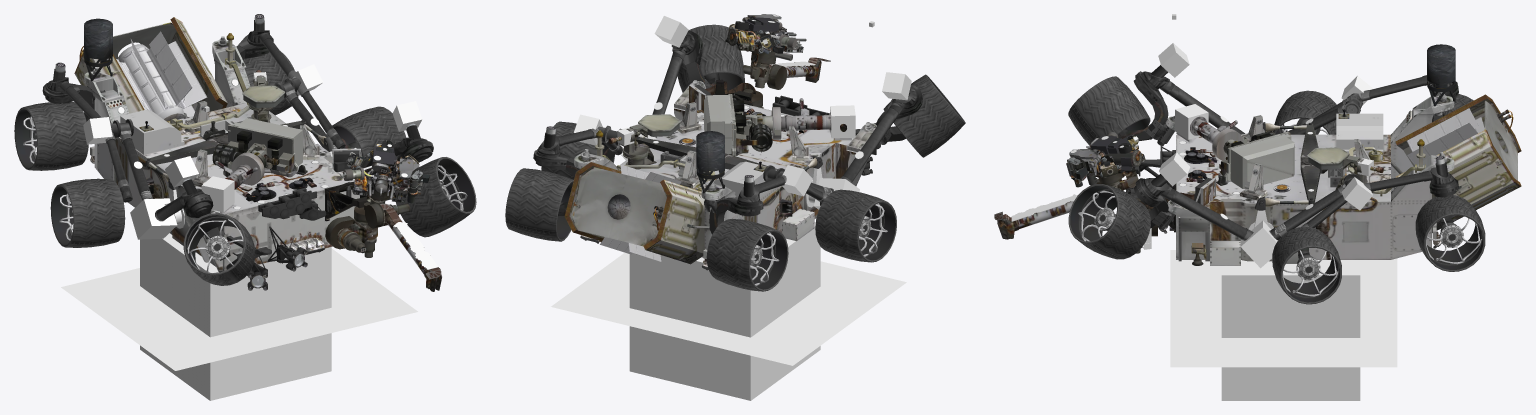
The model's file is curiosity.glb.
3 renders of one model, left to right at view 1: azimuth 30°, elevation 25°; view 2: azimuth 150°, elevation 25°; view 3: azimuth 270°, elevation 25°, orthographic.
Parts seen in each view (by area): view 1: _root_p, shadow_arm, Chassis, body, RTG, wheel_02_R, wheel_03_R, wheel_01_L, wheel_01_R, radiators, arm_03.001, wheel_02_L (+29 smaller); view 2: _root_p, shadow_arm, body, Chassis, wheel_02_R, wheel_03_R, radiators, wheel_03_L, wheel_01_R, wheel_01_L, RTG, antenna_UHF (+26 smaller); view 3: Chassis, shadow_arm, _root_p, body, radiators, wheel_01_L, wheel_02_L, wheel_03_L, wheel_01_R, ChemCam, RTG, suspension_arm_B2_L (+23 smaller).
Part boxes in pixels (bbox=[...]): _root_p: bbox=[140, 233, 331, 400]; shadow_arm: bbox=[61, 248, 417, 370]; Chassis: bbox=[84, 40, 373, 272]; body: bbox=[79, 22, 368, 290]; RTG: bbox=[116, 31, 207, 121]; wheel_02_R: bbox=[50, 178, 125, 247]; wheel_03_R: bbox=[14, 102, 88, 170]; wheel_01_L: bbox=[396, 157, 476, 237]; wheel_01_R: bbox=[183, 213, 255, 285]; radiators: bbox=[74, 17, 227, 113]; arm_03.001: bbox=[365, 203, 441, 291]; wheel_02_L: bbox=[332, 106, 405, 157]; _root_p: bbox=[629, 222, 820, 400]; shadow_arm: bbox=[551, 252, 906, 365]; body: bbox=[570, 79, 876, 256]; Chassis: bbox=[574, 81, 876, 259]; wheel_02_R: bbox=[815, 189, 896, 262]; wheel_03_R: bbox=[706, 218, 788, 291]; radiators: bbox=[564, 162, 704, 264]; wheel_03_L: bbox=[505, 168, 573, 241]; wheel_01_R: bbox=[883, 74, 965, 157]; wheel_01_L: bbox=[677, 24, 744, 94]; RTG: bbox=[600, 164, 681, 261]; antenna_UHF: bbox=[696, 131, 724, 193]; Chassis: bbox=[1165, 95, 1454, 261]; shadow_arm: bbox=[1170, 250, 1397, 367]; _root_p: bbox=[1221, 260, 1360, 400]; body: bbox=[1124, 92, 1517, 265]; radiators: bbox=[1395, 94, 1521, 232]; wheel_01_L: bbox=[1068, 184, 1150, 259]; wheel_02_L: bbox=[1272, 227, 1341, 304]; wheel_03_L: bbox=[1415, 195, 1485, 271]; wheel_01_R: bbox=[1068, 76, 1150, 145]; ChemCam: bbox=[1224, 131, 1294, 188]; RTG: bbox=[1406, 108, 1501, 164]; suspension_arm_B2_L: bbox=[1298, 156, 1454, 254].
Bounding box in the file's own units: 2.76 × 2.5 × 3.8.
12 materials, 7 textured.
